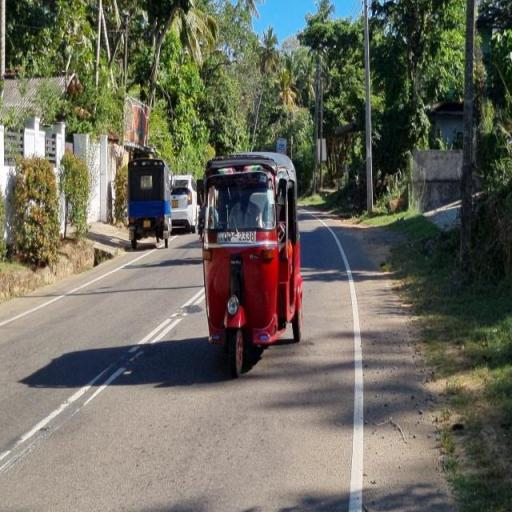double_white_line: (0, 288, 206, 472), (138, 290, 203, 343)
